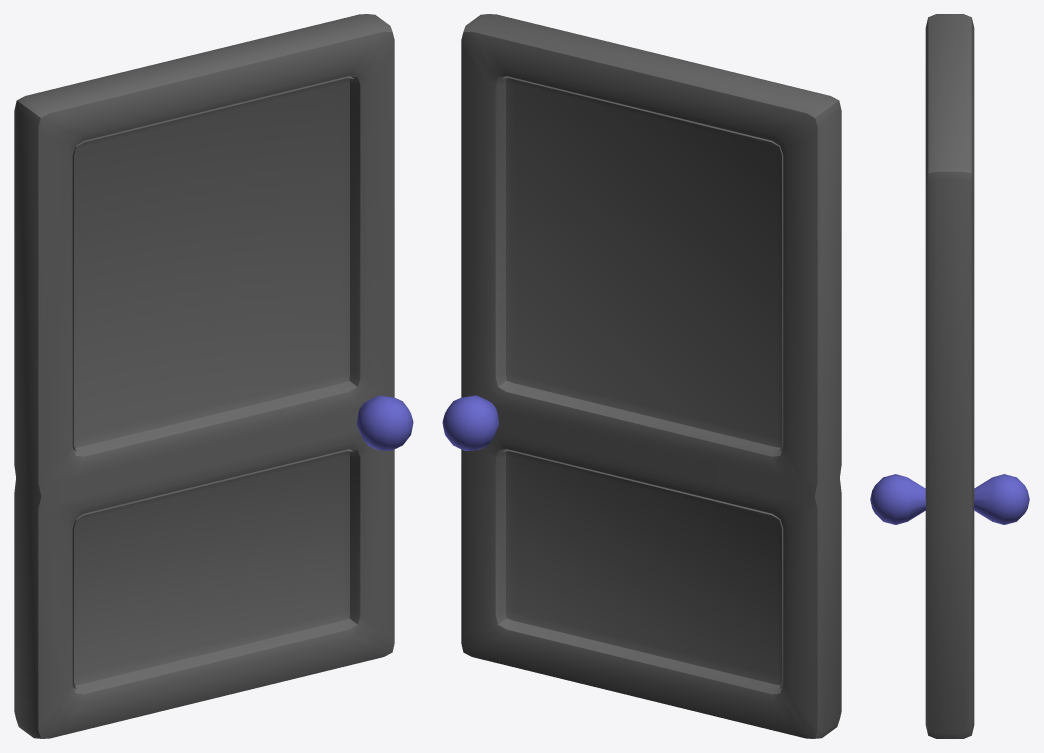
File: SM_door_01.fbx
The picture shows the model from 3 angles, left to right: view 1: azimuth 30°, elevation 25°; view 2: azimuth 150°, elevation 25°; view 3: azimuth 270°, elevation 25°; orthographic projection. The views are drawn at different scales.
Visible parts, largest first — view 1: Box365; view 2: Box365; view 3: Box365.
Boxes of the visible parts, box(x1,y1,x2,y2) form: Box365: box(14, 14, 413, 738); Box365: box(442, 14, 841, 738); Box365: box(870, 14, 1029, 738).
Size of the model in its own units: 47.24 by 78.74 by 19.91.
